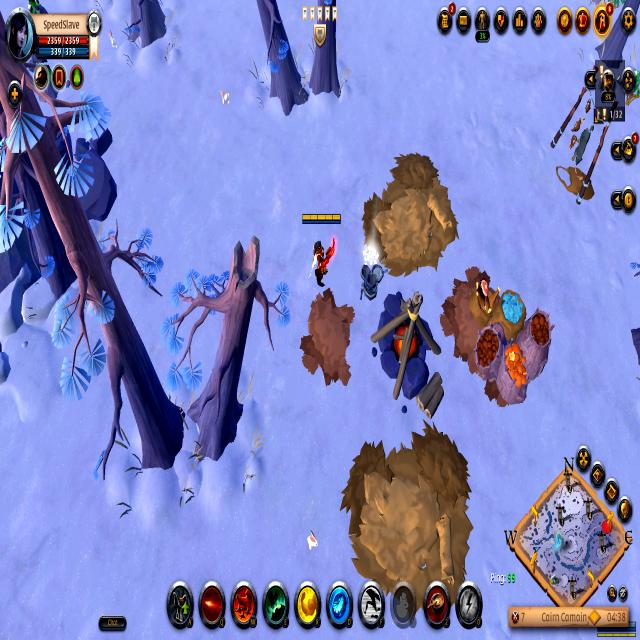red: (300, 210, 342, 293)
stone: (362, 240, 381, 274)
